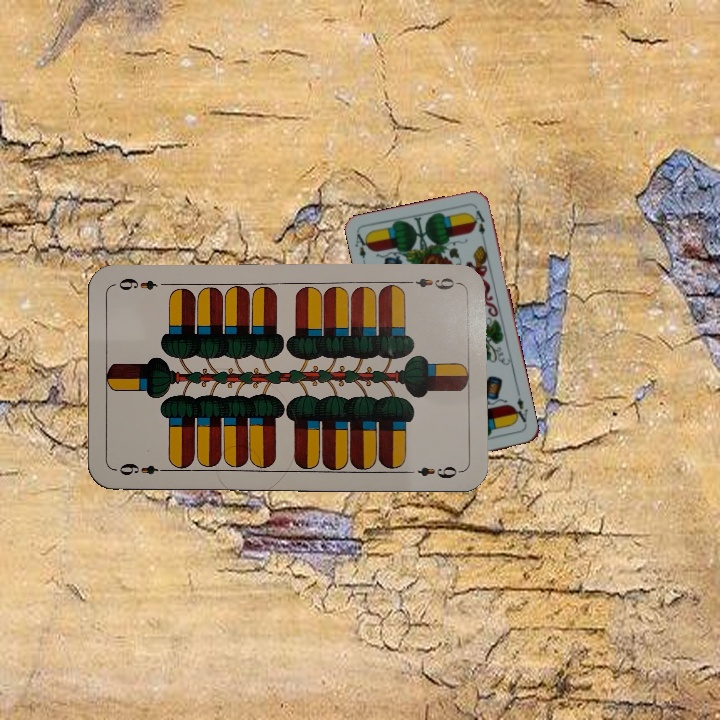E9: (402, 273, 461, 292), (116, 460, 172, 479)
EA: (351, 230, 372, 270), (509, 388, 530, 425)
